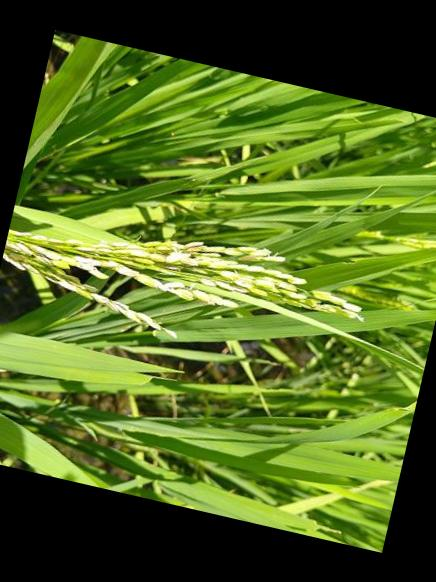Panicle Blight: (2, 229, 359, 339)
